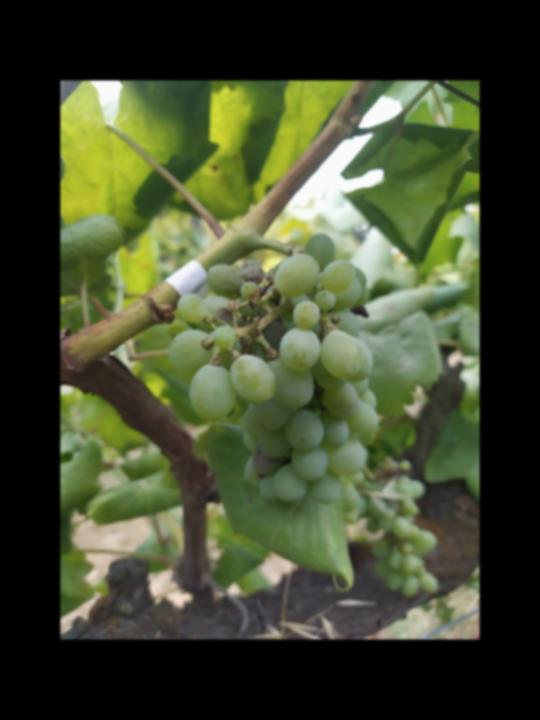grape: (166, 226, 395, 506)
